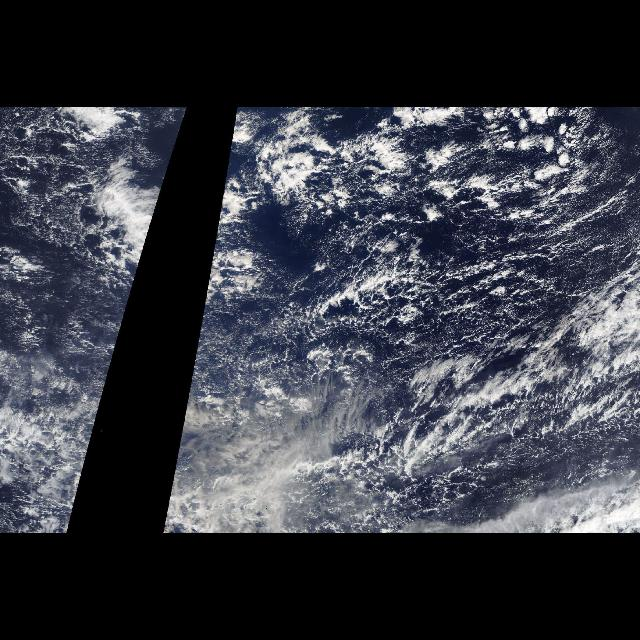Gravel: (280, 181, 560, 369)
